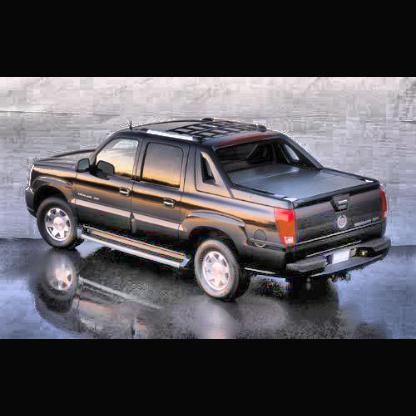Cadillac Escalade EXT Crew Cab 2007: (27, 117, 393, 299)
